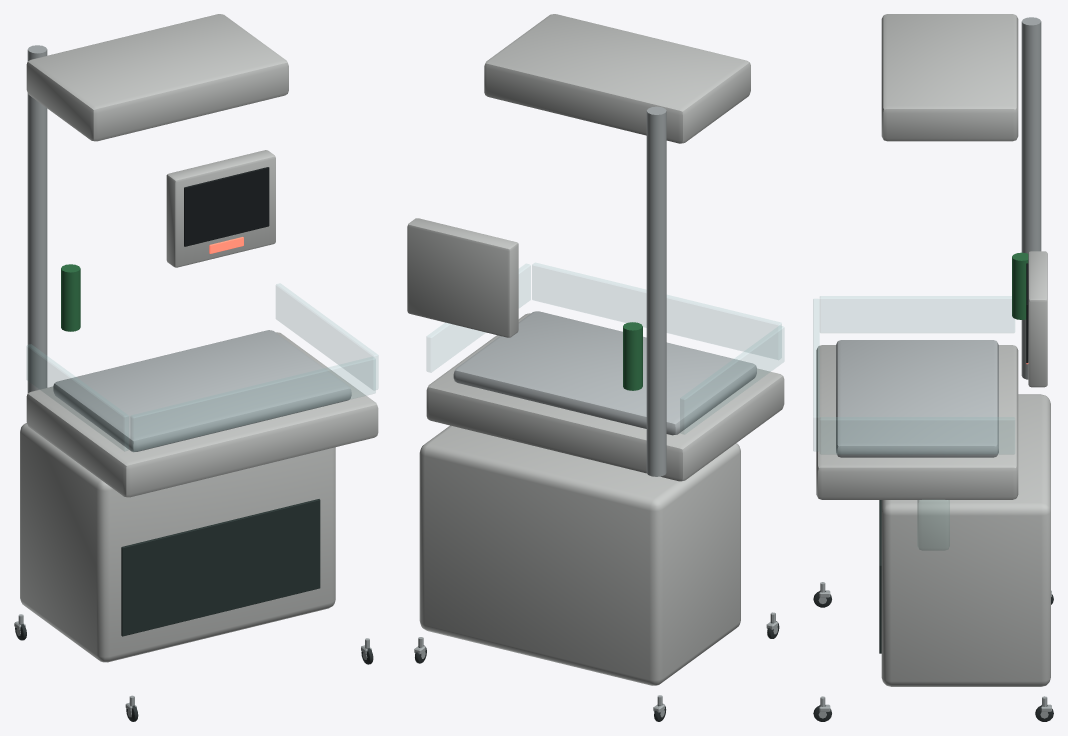
The model's file is sc-infant-warmer.glb.
The picture shows the model from 3 angles, left to right: view 1: azimuth 30°, elevation 25°; view 2: azimuth 150°, elevation 25°; view 3: azimuth 270°, elevation 25°; orthographic projection. The views are drawn at different scales.
Parts seen in each view (by area): view 1: sc-infant-warmer; view 2: sc-infant-warmer; view 3: sc-infant-warmer.
Boxes of the visible parts, x1=… form: sc-infant-warmer: x1=14, y1=14, x2=378, y2=721; sc-infant-warmer: x1=407, y1=14, x2=784, y2=721; sc-infant-warmer: x1=813, y1=14, x2=1053, y2=721.
Bounding box in the file's own units: 0.91 × 2 × 0.7388.
